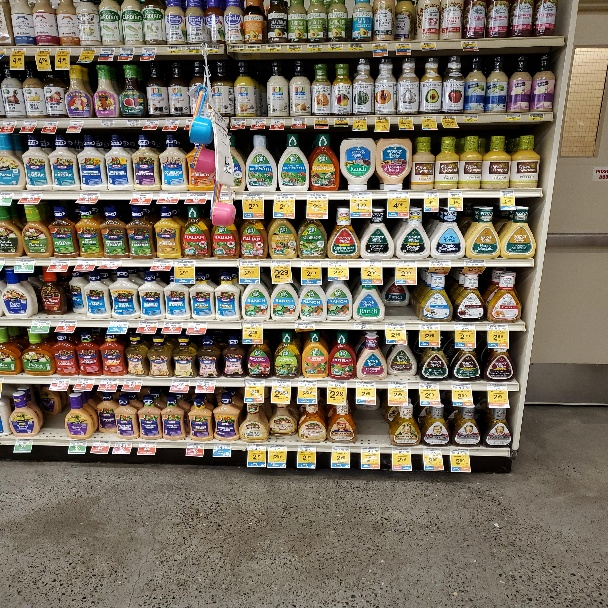All PRICE TAGS: (306, 193, 329, 200), (80, 191, 100, 199), (242, 192, 264, 199), (350, 192, 372, 199), (160, 191, 179, 199), (423, 447, 442, 455), (450, 447, 469, 455), (186, 192, 207, 199), (274, 192, 295, 199), (388, 191, 409, 198), (451, 382, 472, 389), (361, 445, 379, 453), (77, 259, 97, 266), (22, 192, 42, 199), (271, 260, 291, 267), (243, 321, 263, 328), (386, 322, 406, 329), (455, 323, 475, 330), (488, 323, 508, 330), (245, 379, 265, 386), (272, 379, 292, 386), (388, 381, 408, 388), (391, 446, 411, 453), (334, 117, 348, 127), (133, 192, 152, 199), (296, 321, 315, 328), (355, 322, 374, 329), (328, 380, 347, 387), (487, 383, 506, 390), (268, 443, 287, 450), (297, 444, 316, 451), (245, 44, 264, 51), (464, 260, 486, 266), (462, 40, 478, 48), (176, 260, 194, 267), (51, 259, 69, 266), (301, 260, 322, 266), (362, 260, 383, 266), (396, 260, 417, 266), (429, 260, 450, 266), (197, 379, 215, 386), (299, 379, 317, 386), (357, 380, 375, 387), (248, 443, 266, 450), (332, 445, 350, 452), (52, 377, 70, 384), (265, 44, 283, 51), (305, 44, 326, 50), (15, 259, 35, 265), (80, 47, 95, 55), (240, 260, 260, 266), (328, 260, 348, 266), (420, 323, 440, 329), (419, 382, 439, 388), (505, 114, 522, 121), (139, 441, 156, 448), (172, 379, 189, 386), (125, 378, 142, 385), (420, 42, 437, 49), (231, 117, 248, 124), (153, 260, 172, 266), (102, 260, 121, 266), (164, 321, 183, 327), (109, 321, 128, 327), (287, 45, 303, 52), (186, 46, 200, 54), (94, 440, 110, 447), (396, 42, 412, 49), (58, 320, 76, 326), (33, 320, 51, 326), (187, 443, 205, 449), (69, 440, 87, 446), (189, 322, 207, 328), (139, 321, 157, 327), (229, 45, 244, 52), (270, 117, 285, 124), (397, 116, 412, 123), (529, 113, 544, 120), (205, 45, 218, 53), (217, 193, 234, 199), (214, 443, 231, 449), (114, 441, 131, 447), (101, 378, 118, 384), (372, 43, 389, 49), (44, 120, 58, 127), (11, 48, 25, 55), (37, 48, 51, 55), (56, 47, 70, 54), (142, 47, 156, 54), (352, 117, 368, 123), (441, 116, 457, 122), (423, 191, 439, 197), (16, 439, 32, 445), (77, 378, 93, 384), (166, 119, 179, 126), (127, 120, 140, 127), (101, 120, 114, 127), (70, 120, 83, 127), (168, 47, 181, 54), (330, 43, 343, 50), (100, 48, 115, 54), (291, 117, 306, 123), (421, 116, 436, 122), (463, 115, 478, 121), (448, 191, 463, 197), (500, 190, 515, 196), (349, 44, 364, 50), (145, 119, 159, 125), (24, 120, 36, 127), (3, 120, 15, 127), (121, 47, 133, 54), (251, 118, 265, 124), (1, 192, 14, 198), (315, 118, 328, 124), (375, 117, 390, 122), (186, 119, 189, 125)
